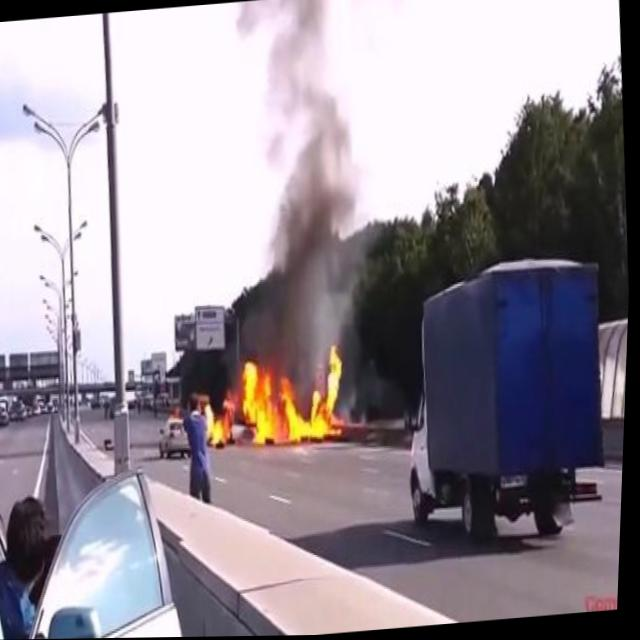fire: (238, 342, 355, 455), (204, 394, 242, 450)
